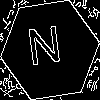N: (25, 25, 64, 75)
